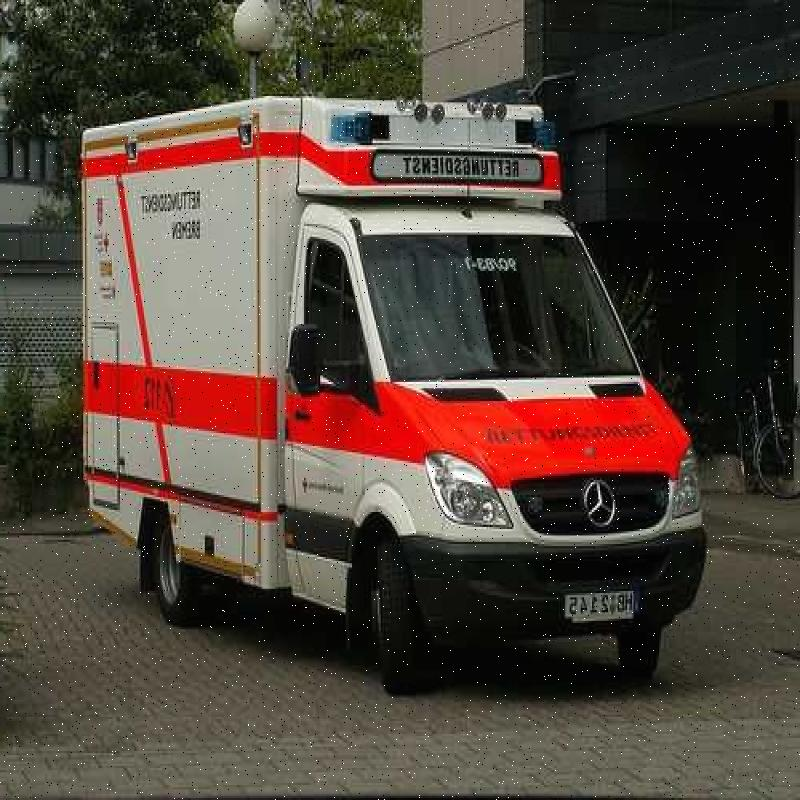AmbulanceSiren: (331, 107, 550, 147)
